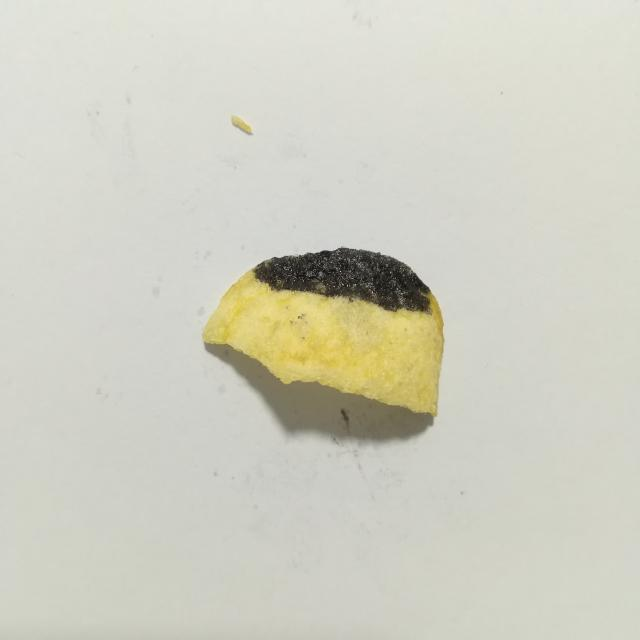chip: (203, 248, 444, 416)
damaged: (253, 248, 430, 312)
